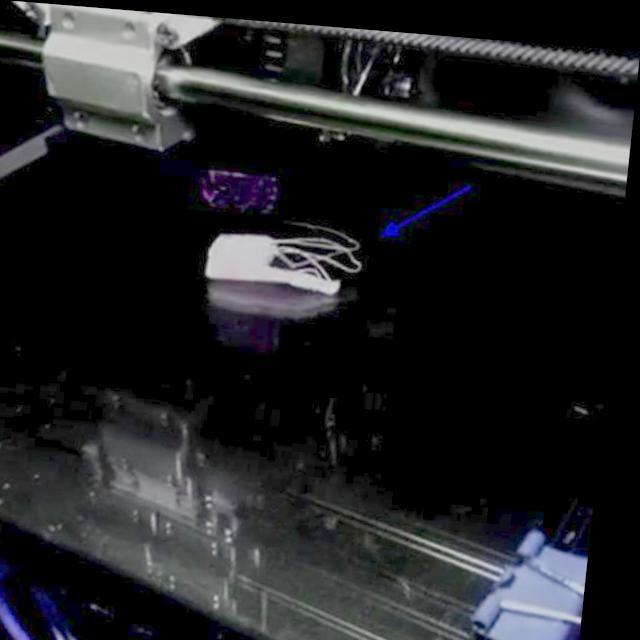spaghetti: (271, 212, 372, 277)
